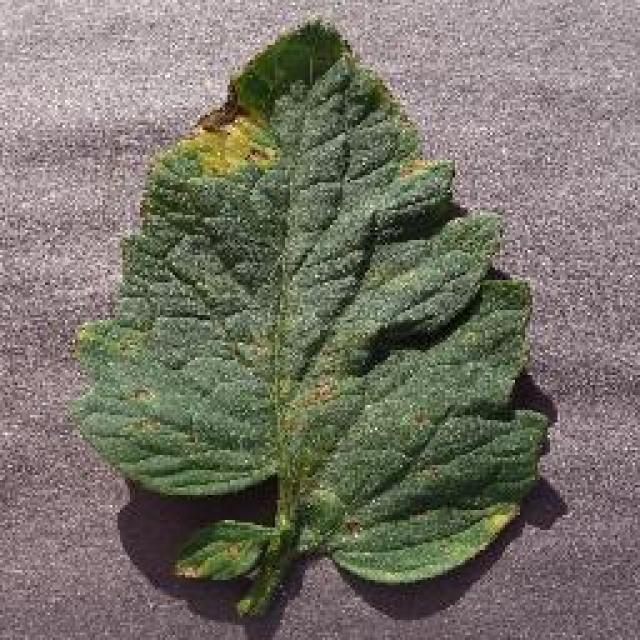Tomato Septoria spot leaf: (74, 20, 554, 598)
